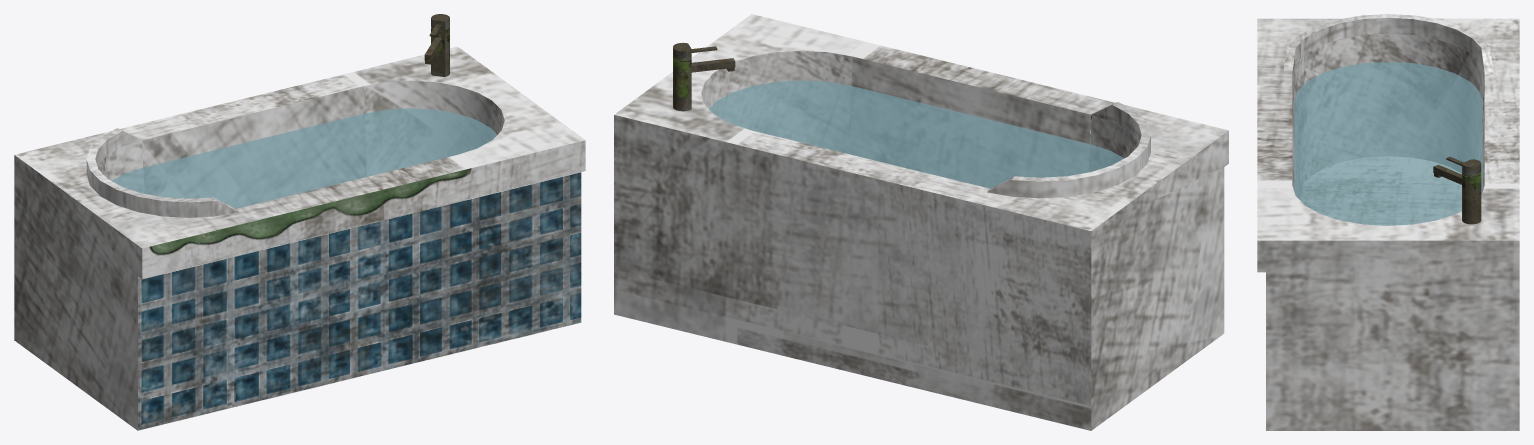
The model's file is Bath.FBX.
3 renders of one model, left to right at view 1: azimuth 30°, elevation 25°; view 2: azimuth 150°, elevation 25°; view 3: azimuth 270°, elevation 25°, orthographic. The views are drawn at different scales.
Parts seen in each view (by area): view 1: Model, Agua, Grifo; view 2: Model, Agua, Grifo; view 3: Model, Agua, Grifo.
Part boxes in pixels (x1,y1,x2,y2): Model: (14, 46, 585, 430); Agua: (98, 108, 496, 246); Grifo: (424, 14, 449, 76); Model: (614, 14, 1228, 430); Agua: (681, 80, 1182, 188); Grifo: (673, 42, 735, 111); Model: (1257, 14, 1519, 430); Agua: (1292, 52, 1482, 225); Grifo: (1433, 156, 1481, 224).
Size of the model in its own units: 0.003 by 0.00156 by 0.0015.
4 materials, 3 textured.
